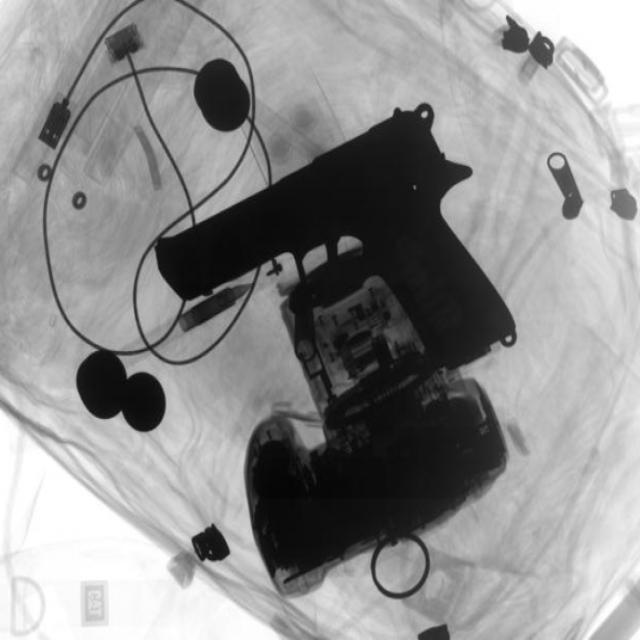GUN: (156, 105, 505, 360)
